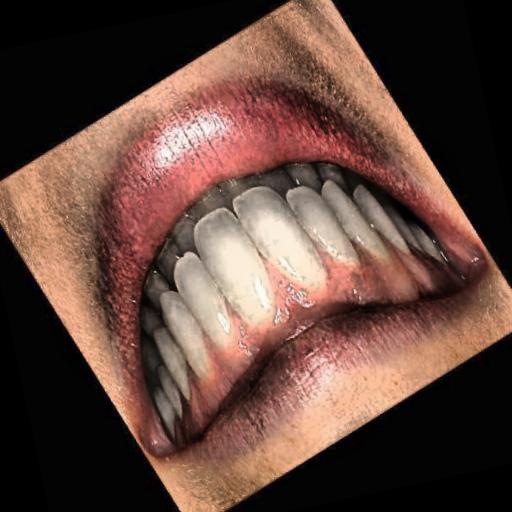Healthy: (90, 86, 484, 460)
